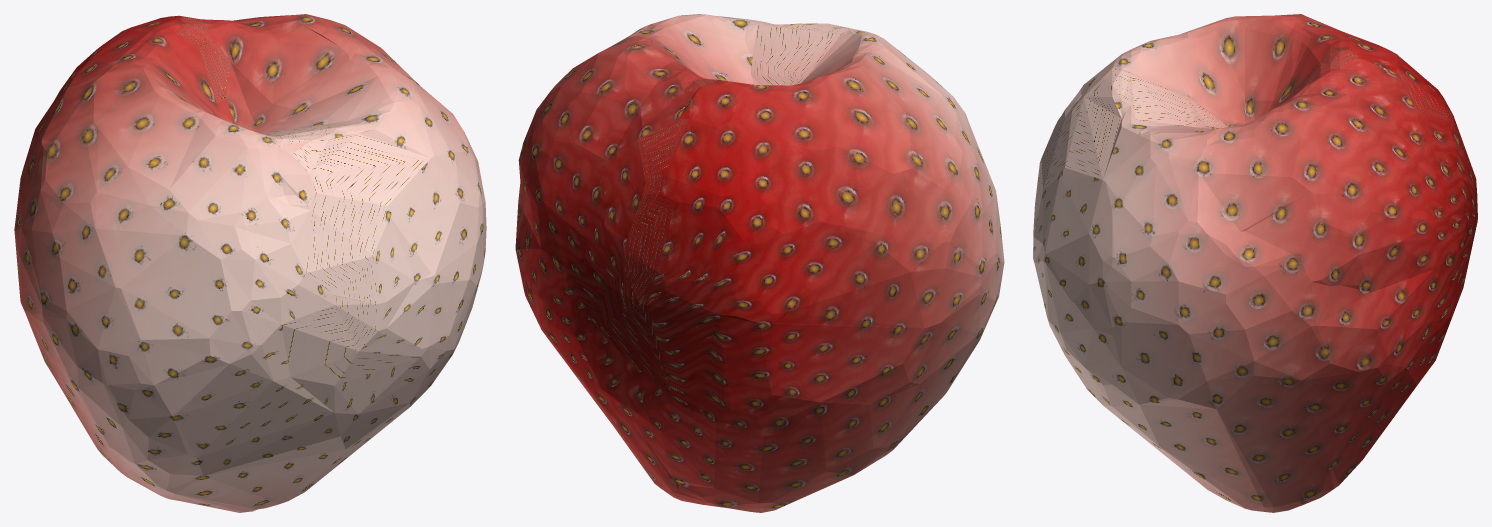
3 views of the same model, side by side, from view 1: azimuth 30°, elevation 25°; view 2: azimuth 150°, elevation 25°; view 3: azimuth 270°, elevation 25° (orthographic). The views are drawn at different scales.
Visible parts, largest first — view 1: _000_Meshed; view 2: _000_Meshed; view 3: _000_Meshed.
Boxes of the visible parts, x1,y1,x2,y2 form: _000_Meshed: (14,14,486,512); _000_Meshed: (515,14,1004,512); _000_Meshed: (1033,14,1477,512).
Size of the model in its own units: 0.1127 by 0.1062 by 0.1159.
Materials: 1 (1 with a texture image).
